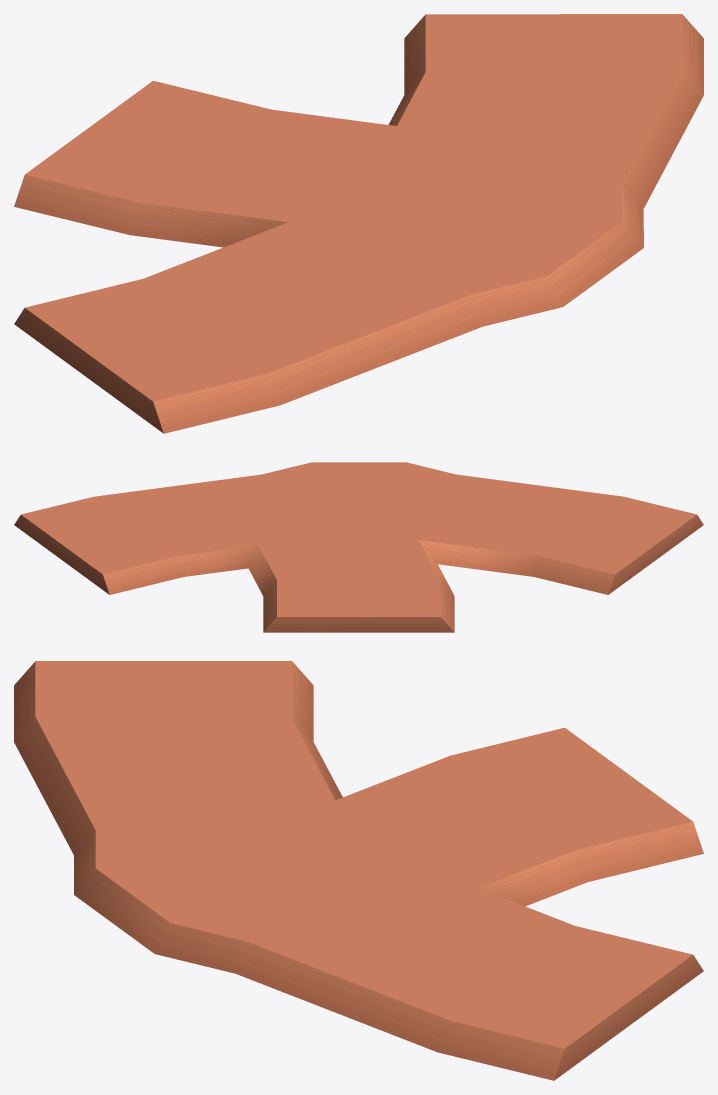
File: path-intersection-a.glb
The picture shows the model from 3 angles, top to bottom: view 1: azimuth 30°, elevation 25°; view 2: azimuth 150°, elevation 25°; view 3: azimuth 270°, elevation 25°; orthographic projection. The views are drawn at different scales.
Parts seen in each view (by area): view 1: path-intersectionA; view 2: path-intersectionA; view 3: path-intersectionA.
Part boxes in pixels (x1,y1,x2,y2): path-intersectionA: (14,14,703,433); path-intersectionA: (14,462,703,632); path-intersectionA: (14,661,703,1080).
Size of the model in its own units: 0.8708 by 0.025 by 0.6422.
Materials: 1 (1 with a texture image).
